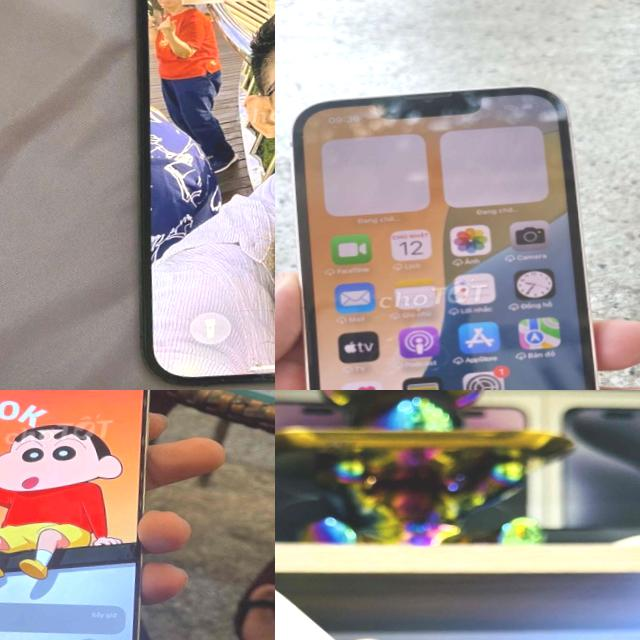gen_12_13: (277, 75, 631, 390), (275, 517, 620, 640)
gen_14: (103, 0, 275, 390)
gen_15: (0, 390, 180, 640)
